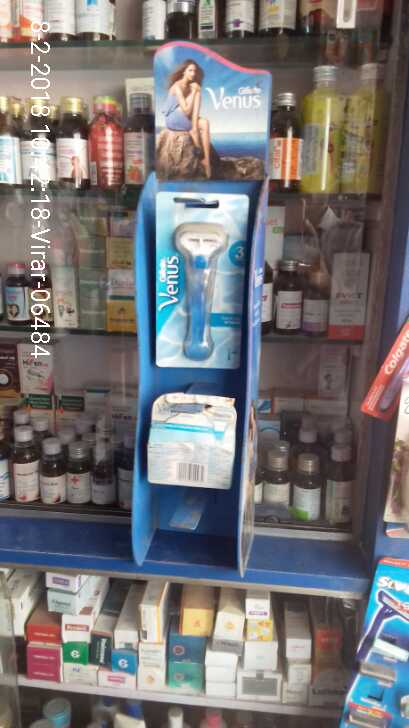beauty: (156, 193, 250, 370), (148, 396, 240, 491)
